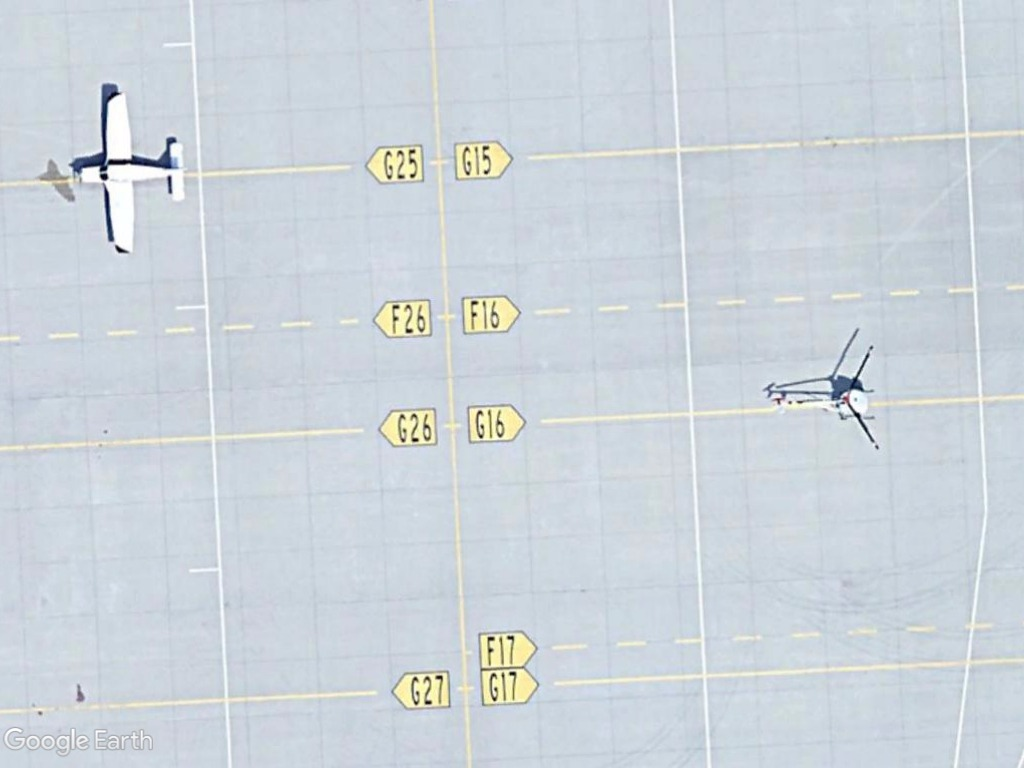helicopter: (758, 338, 896, 459)
propeller: (65, 85, 193, 259)
